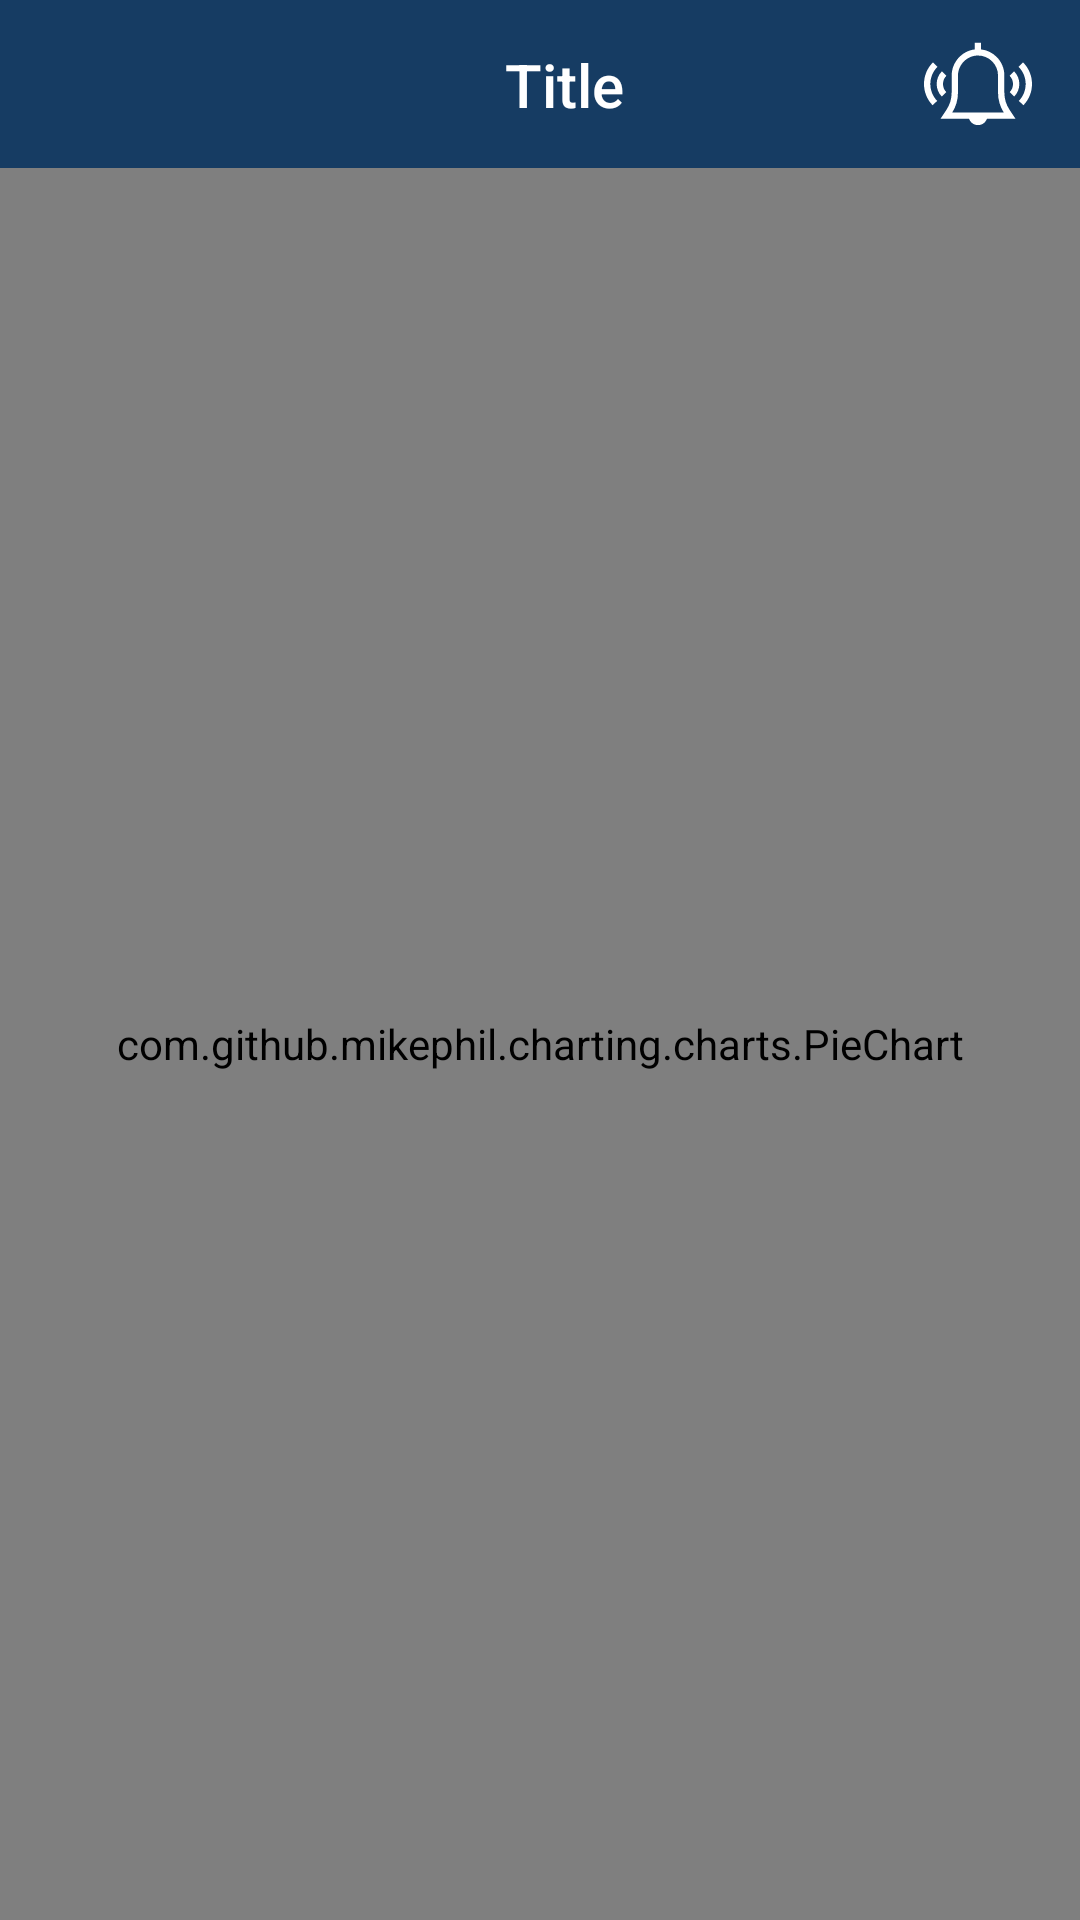

Icon bounding boxes for this 1080px×1920px phone screenshot, format detection(x1, y1, x2, y2):
notification: detection(924, 42, 1032, 125)
